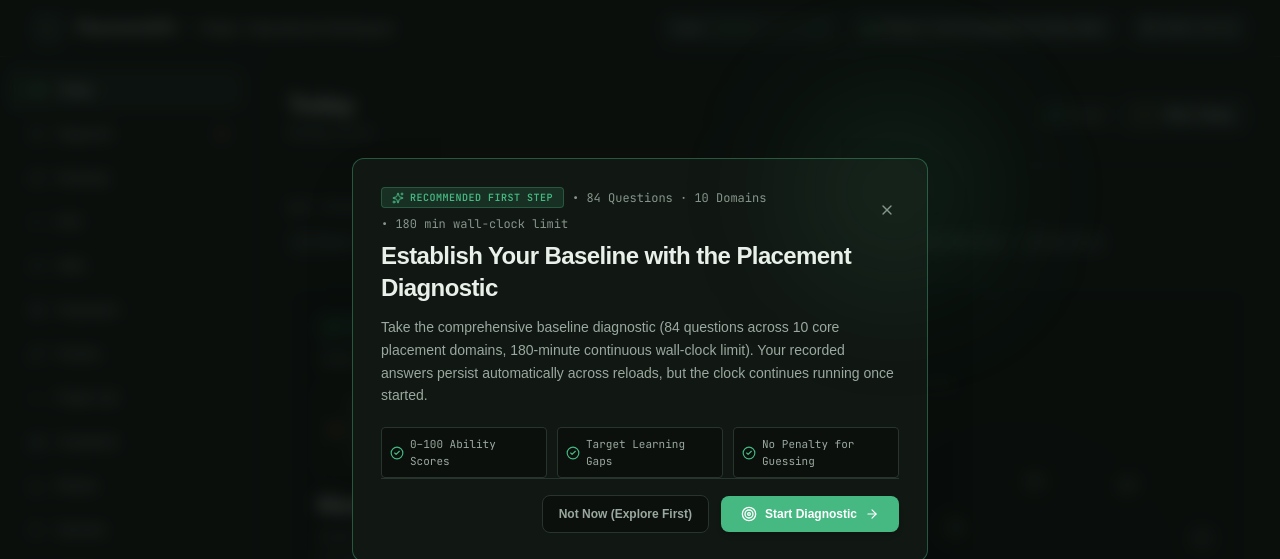
Scenario: TASK 174 — Personalized Onboarding, Dual-Track Dashboard & Assessment Improvements › Phase 2: Diagnostic Invitation and Reminder Lifecycle › truthfully advertises 180 min continuous wall-clock limit and reload persistence in invitation and reminder
Expected: the text "• 180 min wall-clock limit" is shown, [381,216,568,232]
Expected: the text "• 84 Questions · 10 Domains" is shown, [572,190,766,206]
Note: Dismiss modal to see reminder
Click the button with test id "dismiss-diagnostic-invitation-btn": (625, 514) [542,495,709,533]
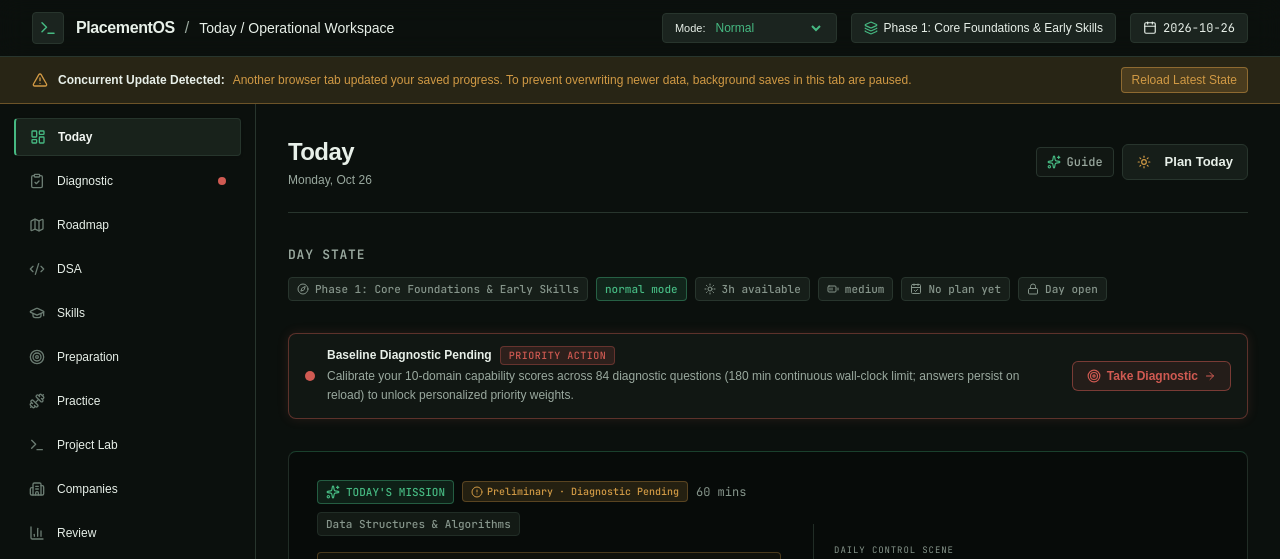
Expected: the text "answers persist on reload" is shown, [327,369,1019,402]
